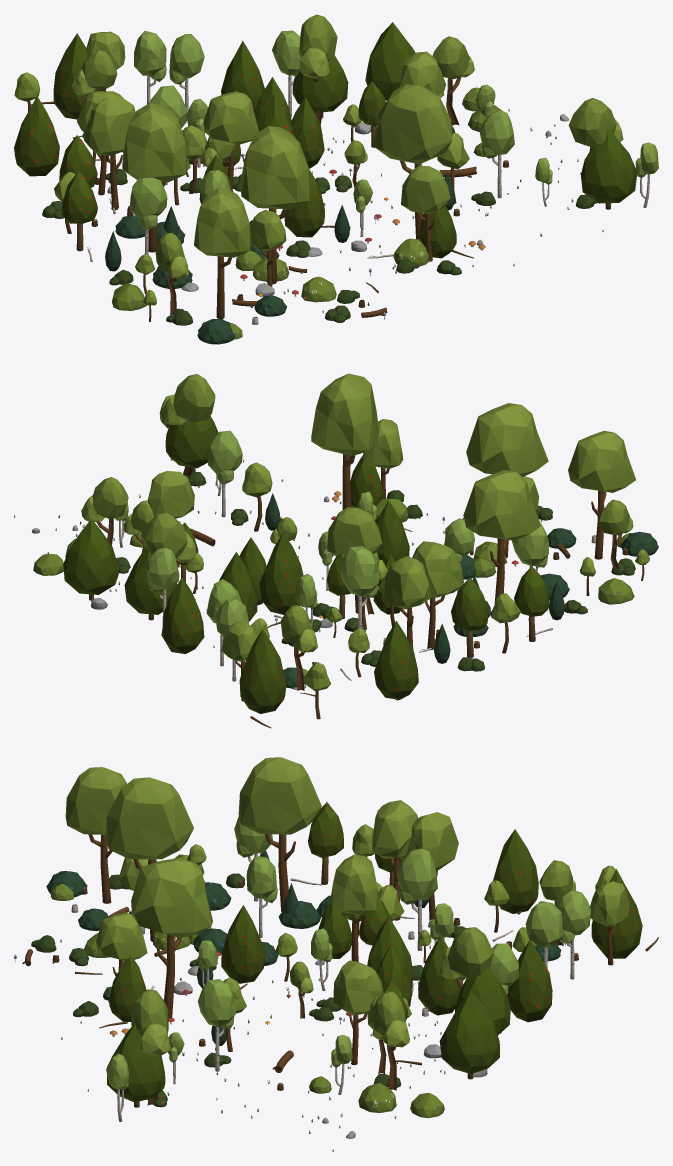
3 views of the same model, one above another, from view 1: azimuth 30°, elevation 25°; view 2: azimuth 150°, elevation 25°; view 3: azimuth 270°, elevation 25° (orthographic). The views are drawn at different scales.
Parts seen in each view (by area): view 1: Beechtree3 - copy.040, Beechtree3 - copy.034, Beechtree3 - copy.061, Beechtree3 - copy.047, Hollytree2 - copy.024, Beechtree3 - copy.053, Hollytree3 - copy.032, Beechtree3 - copy.029, Beechtree3 - copy.002, Hollytree2 - copy.038, Beechtree2 - copy.045, Hollytree2 - copy.035 (+41 smaller); view 2: Beechtree3 - copy.040, Beechtree3 - copy.061, Beechtree3 - copy.034, Beechtree3 - copy.047, Hollytree2 - copy.038, Hollytree3 - copy.048, Hollytree3 - copy.032, Hollytree3 - copy.018, Beechtree3 - copy.053, Hollytree3 - copy.011, Beechtree3 - copy.007, Beechtree3 - copy.029 (+33 smaller); view 3: Beechtree3 - copy.040, Beechtree3 - copy.034, Beechtree3 - copy.061, Beechtree3 - copy.047, Hollytree2 - copy.038, Beechtree3 - copy.029, Hollytree3 - copy.011, Hollytree3 - copy.032, Beechtree3 - copy.004, Hollytree3 - copy.023, Hollytree2 - copy.024, Beechtree3 - copy.053 (+35 smaller).
Boxes of the visible parts, x1,y1,x2,y2 form: Beechtree3 - copy.040: (373,84,452,239); Beechtree3 - copy.034: (240,126,310,284); Beechtree3 - copy.061: (122,103,187,252); Beechtree3 - copy.047: (194,188,251,318); Hollytree2 - copy.024: (581,128,636,209); Beechtree3 - copy.053: (83,98,135,208); Hollytree3 - copy.032: (14,96,59,176); Beechtree3 - copy.029: (203,91,258,188); Beechtree3 - copy.002: (401,165,450,261); Hollytree2 - copy.038: (365,22,415,100); Beechtree2 - copy.045: (299,14,337,124); Hollytree2 - copy.035: (292,55,348,118); Beechtree3 - copy.040: (311,373,379,509); Beechtree3 - copy.061: (463,470,540,603); Beechtree3 - copy.034: (466,403,548,558); Beechtree3 - copy.047: (568,430,635,559); Hollytree2 - copy.038: (63,519,118,600); Hollytree3 - copy.048: (239,629,286,713); Hollytree3 - copy.032: (374,621,418,699); Hollytree3 - copy.018: (259,532,303,614); Beechtree3 - copy.053: (412,541,463,650); Hollytree3 - copy.011: (161,577,204,653); Beechtree3 - copy.007: (383,556,431,649); Beechtree3 - copy.029: (327,507,382,613); Beechtree3 - copy.040: (131,857,212,1017); Beechtree3 - copy.034: (105,777,193,941); Beechtree3 - copy.061: (238,757,321,911); Beechtree3 - copy.047: (65,767,126,903); Hollytree2 - copy.038: (439,991,499,1079); Beechtree3 - copy.029: (330,854,379,961); Hollytree3 - copy.011: (507,940,552,1022); Hollytree3 - copy.032: (493,829,538,913); Beechtree3 - copy.004: (333,960,383,1065); Hollytree3 - copy.023: (221,905,265,983); Hollytree2 - copy.024: (107,1023,165,1107); Beechtree3 - copy.053: (372,800,418,920).
Bounding box in the file's own units: 73.92 × 19.48 × 70.33.
Materials: 34 (34 with a texture image).
